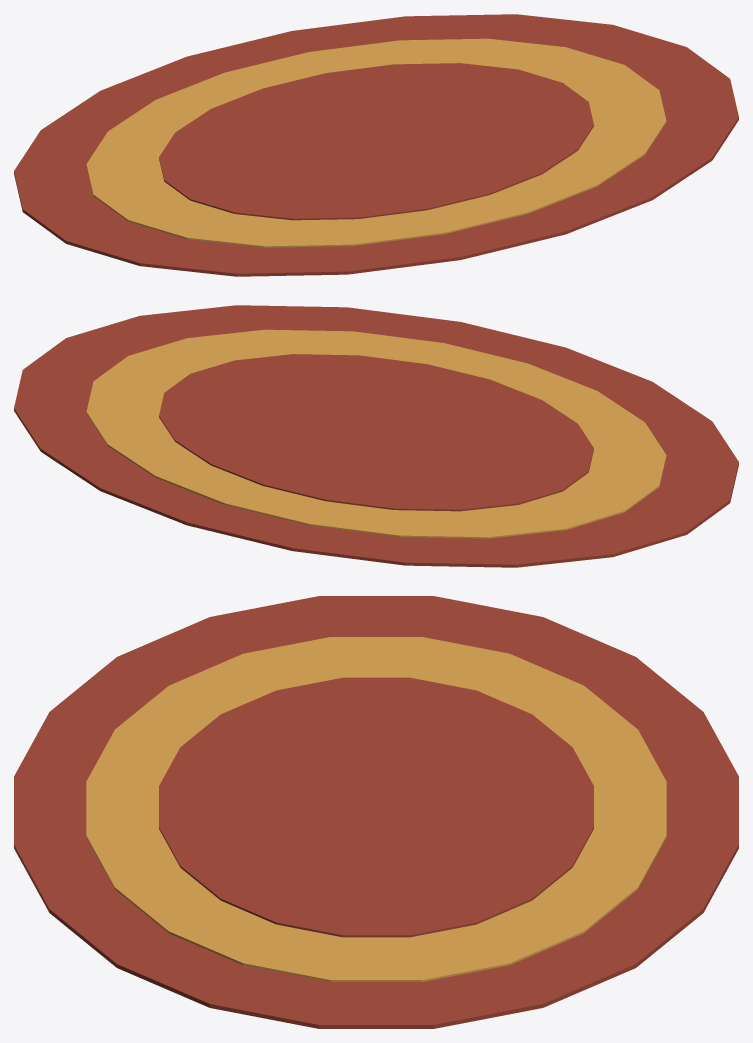
File: rug.glb
3 renders of one model, top to bottom at view 1: azimuth 30°, elevation 25°; view 2: azimuth 150°, elevation 25°; view 3: azimuth 270°, elevation 25°, orthographic. The views are drawn at different scales.
Parts seen in each view (by area): view 1: rug; view 2: rug; view 3: rug.
Part boxes in pixels (x1,y1,x2,y2): rug: (14,14,738,276); rug: (14,305,738,567); rug: (14,596,738,1028).
Bounding box in the file's own units: 2.77 × 0.024 × 1.98.
